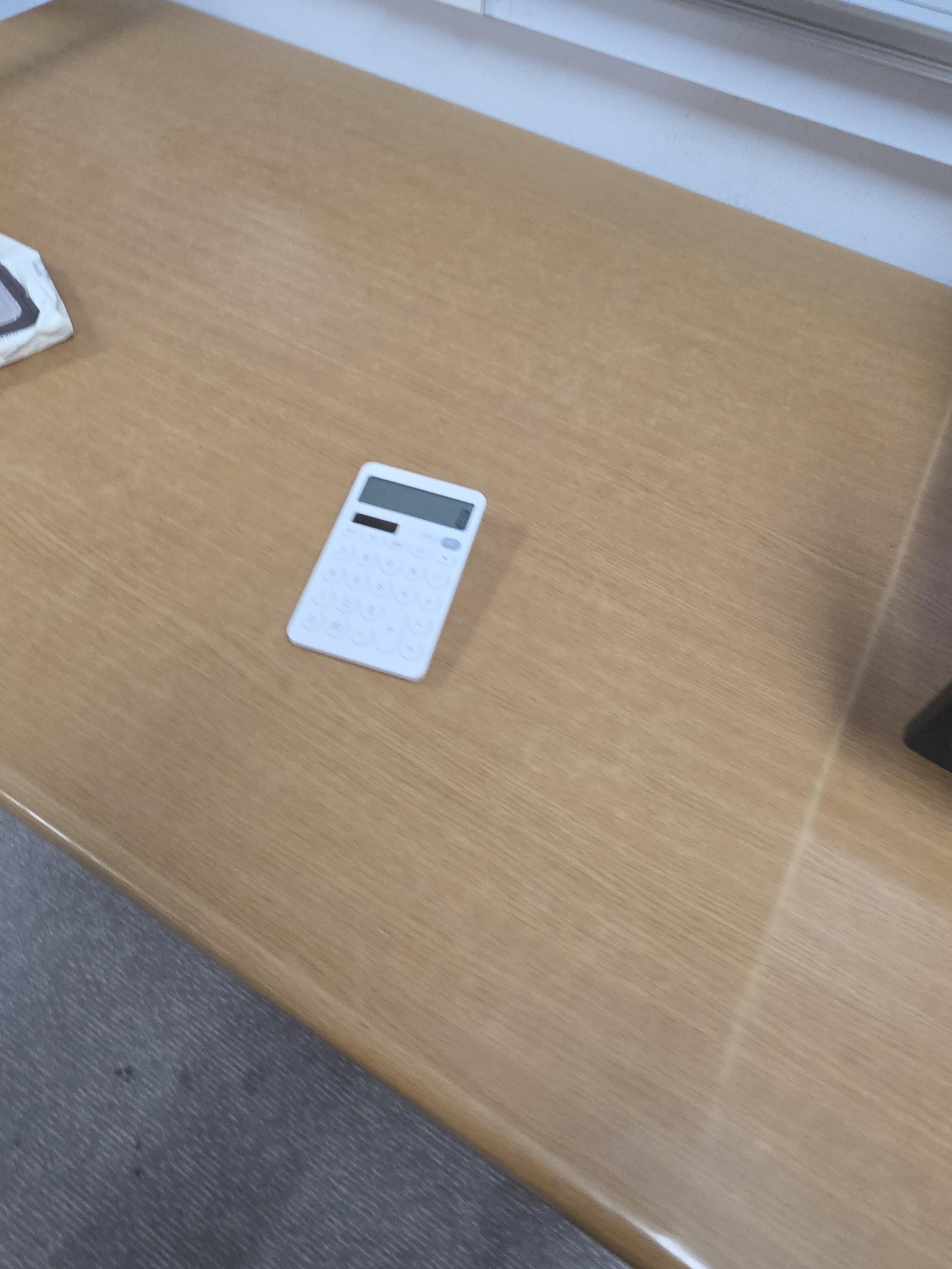calculator: (286, 462, 486, 681)
tissue: (0, 233, 74, 368)
